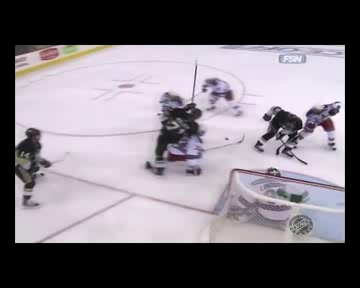normal: (198, 74, 249, 121)
